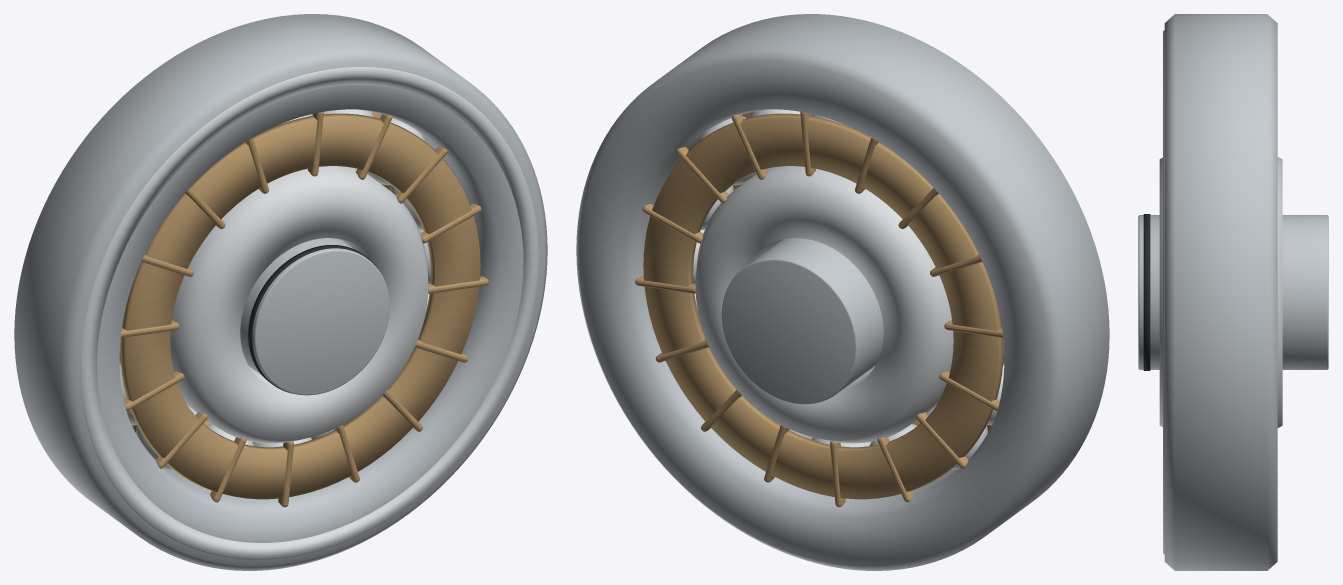
The model's file is industrial-mechanical-component.glb.
3 renders of one model, left to right at view 1: azimuth 30°, elevation 25°; view 2: azimuth 150°, elevation 25°; view 3: azimuth 270°, elevation 25°, orthographic.
Parts seen in each view (by area): view 1: Brushed aluminium, Polished steel, Satin champagne metal, Soft black; view 2: Brushed aluminium, Satin champagne metal, Polished steel; view 3: Brushed aluminium, Polished steel, Soft black.
Part boxes in pixels (left/top/right/bottom): Brushed aluminium: left=14, top=14, right=547, bottom=570; Polished steel: left=80, top=67, right=538, bottom=559; Satin champagne metal: left=120, top=112, right=488, bottom=507; Soft black: left=248, top=245, right=379, bottom=393; Brushed aluminium: left=576, top=14, right=1109, bottom=570; Satin champagne metal: left=635, top=112, right=1003, bottom=507; Polished steel: left=693, top=109, right=1004, bottom=469; Brushed aluminium: left=1138, top=14, right=1328, bottom=570; Polished steel: left=1159, top=30, right=1282, bottom=554; Soft black: left=1143, top=214, right=1150, bottom=370.
Bounding box in the file's own units: 1.08 × 1.08 × 0.37.
